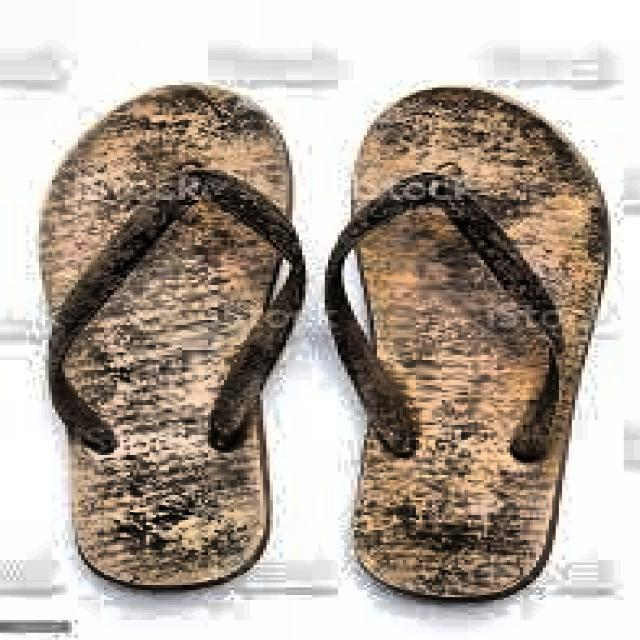shoes: (40, 70, 616, 606)
